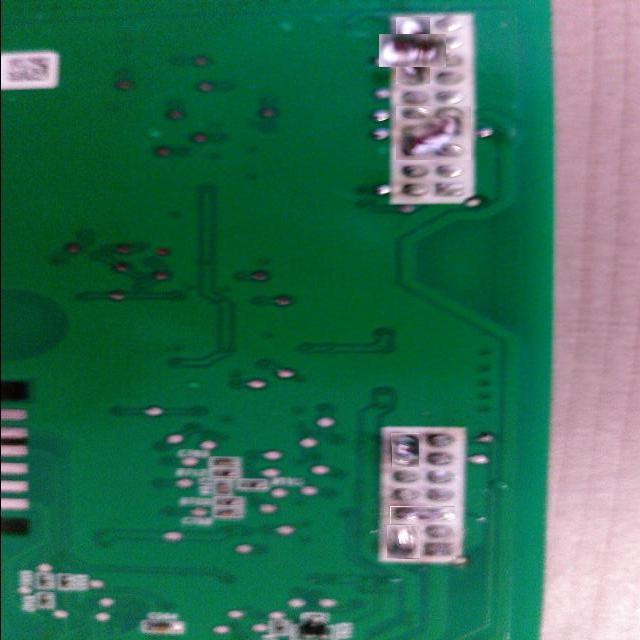Short_circuit: (396, 106, 471, 160), (388, 25, 438, 76), (390, 506, 455, 524), (386, 526, 419, 558), (391, 433, 419, 467)
